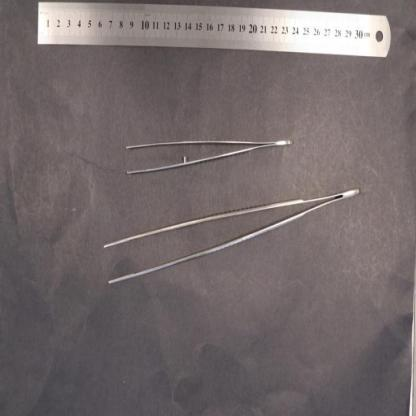DeBakey Dissector: (104, 188, 361, 284)
Gillies Toothed Dissector: (126, 140, 294, 176)
